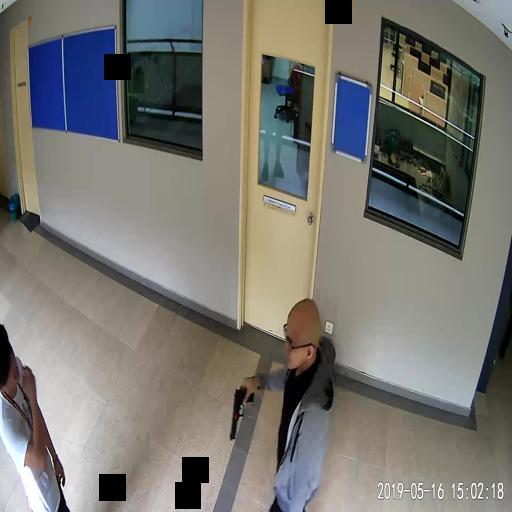Handgun: (229, 383, 252, 438)
